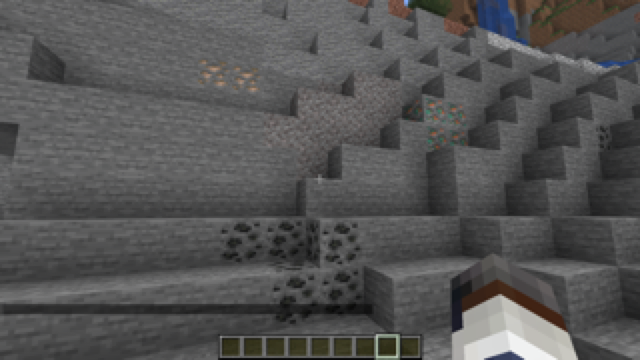coal: (218, 212, 366, 323), (595, 124, 613, 149)
copper: (405, 96, 469, 152)
iron: (196, 58, 263, 97)
